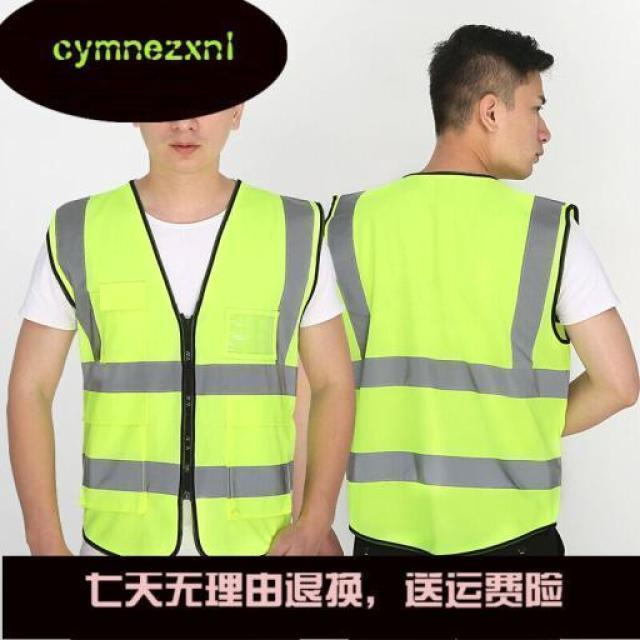no_head_wear: (429, 25, 552, 138)
person: (321, 25, 639, 554)
